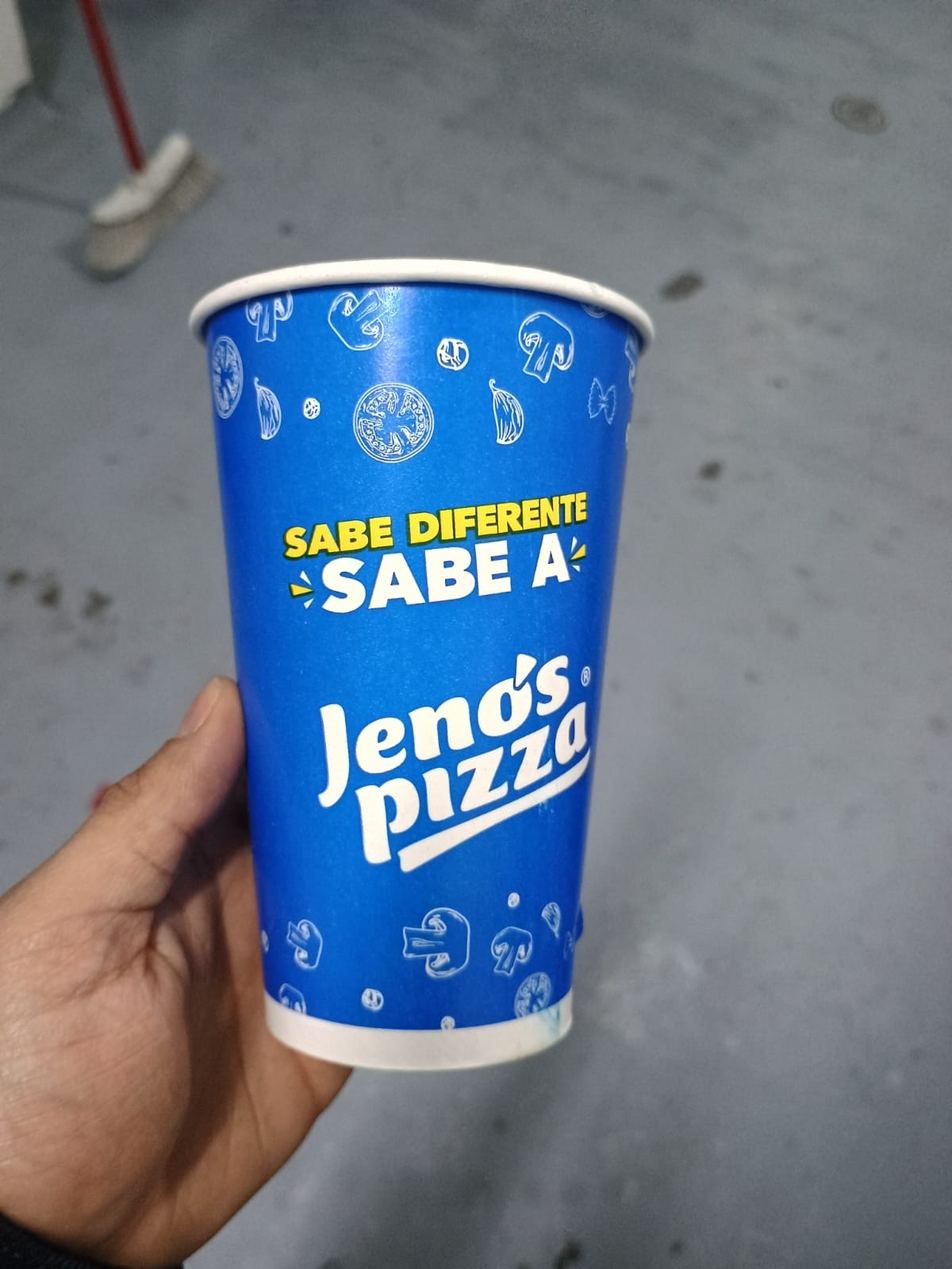Carton: (188, 255, 657, 1074)
